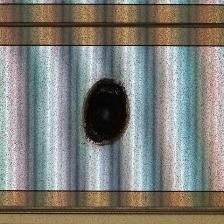PARTICLE: (77, 73, 138, 151)
